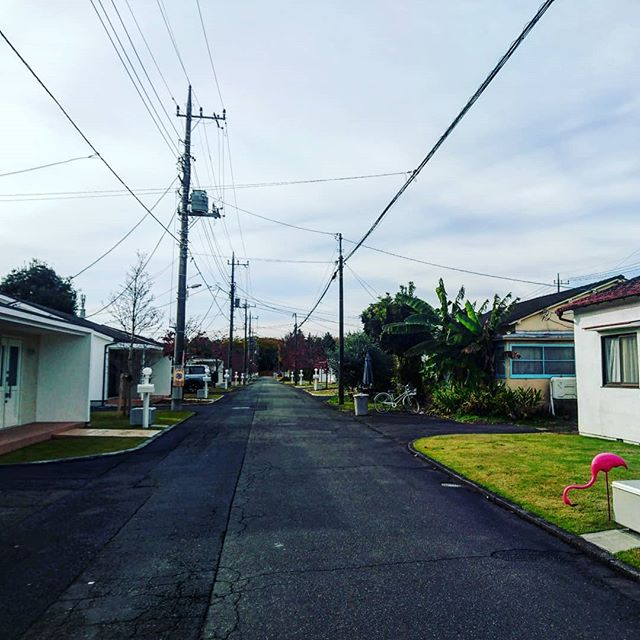building: (1, 296, 127, 448), (475, 270, 610, 395), (562, 280, 640, 449)
grass: (438, 425, 640, 536)
power pole: (152, 84, 237, 423)
sky: (1, 1, 622, 272)
street: (1, 385, 579, 640)
tree: (403, 281, 494, 406), (360, 281, 434, 399)
